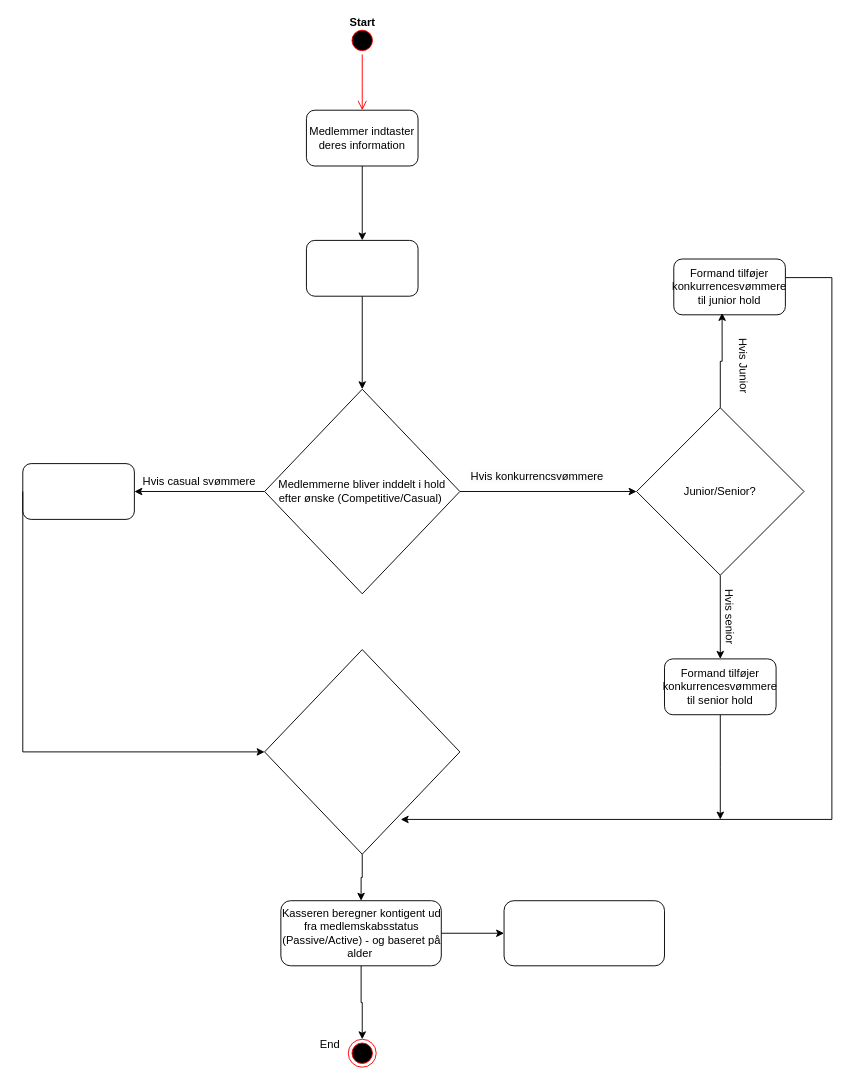
Some shapes in this 856 by 1083 pixel diagram are drawn without their labels. The shapes that lost their labels are listed below. From the top down, each one's box as (x1, y1, x2, y2) in pixels, then its label:
(306, 239, 418, 296): Formand tilføjer medlemmerne til systemet
(22, 463, 134, 519): Formand tilføjer medlem til casual hold
(264, 649, 460, 854): Confirm aktiv passiv
(503, 900, 664, 966): Kasseren har mulighed for at se total indkomst/gæld fra medlemmer til klubben
